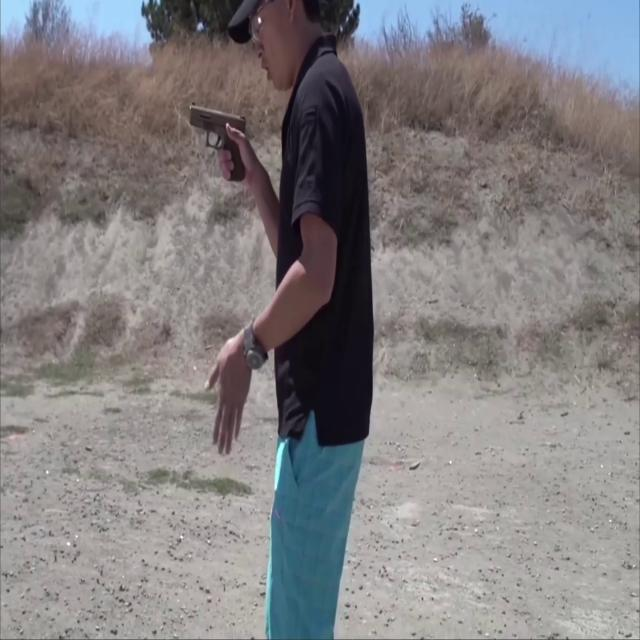gun: (189, 103, 246, 183)
